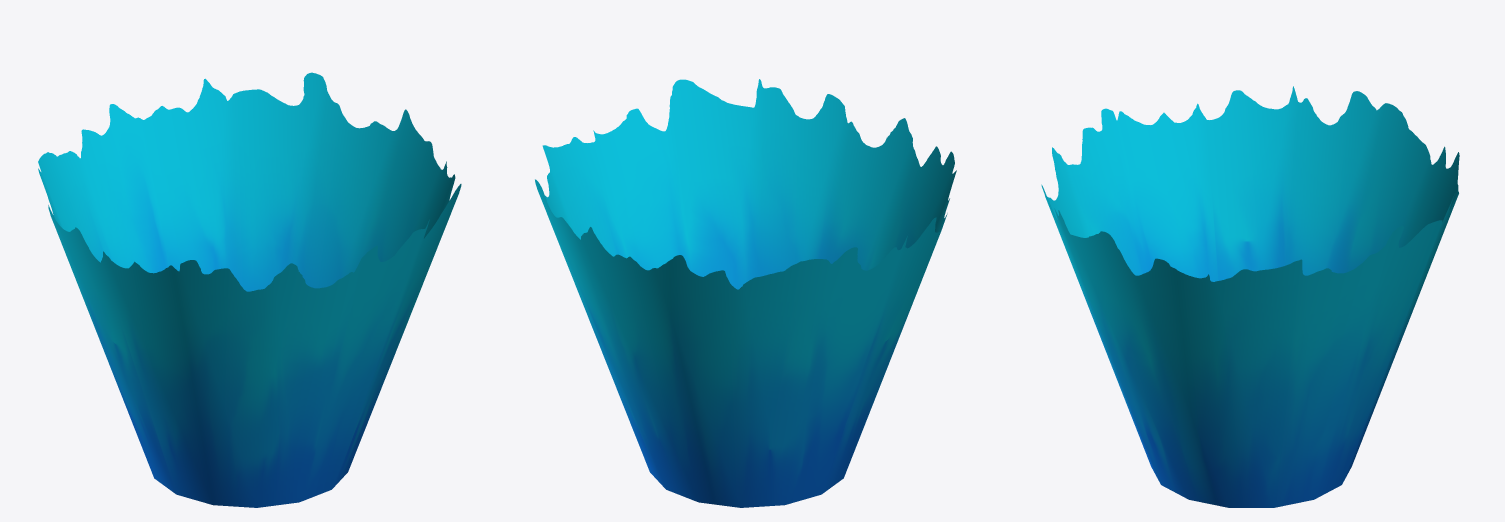
Rendered from teleport3.fbx.
3 renders of one model, left to right at view 1: azimuth 30°, elevation 25°; view 2: azimuth 150°, elevation 25°; view 3: azimuth 270°, elevation 25°, orthographic.
Parts seen in each view (by area): view 1: polySurface2; view 2: polySurface2; view 3: polySurface2.
Part boxes in pixels (x1,y1,x2,y2): polySurface2: [38, 72, 461, 507]; polySurface2: [535, 79, 956, 507]; polySurface2: [1041, 86, 1459, 507].
Bounding box in the file's own units: 292 × 245 × 300.
Materials: 1 (1 with a texture image).
